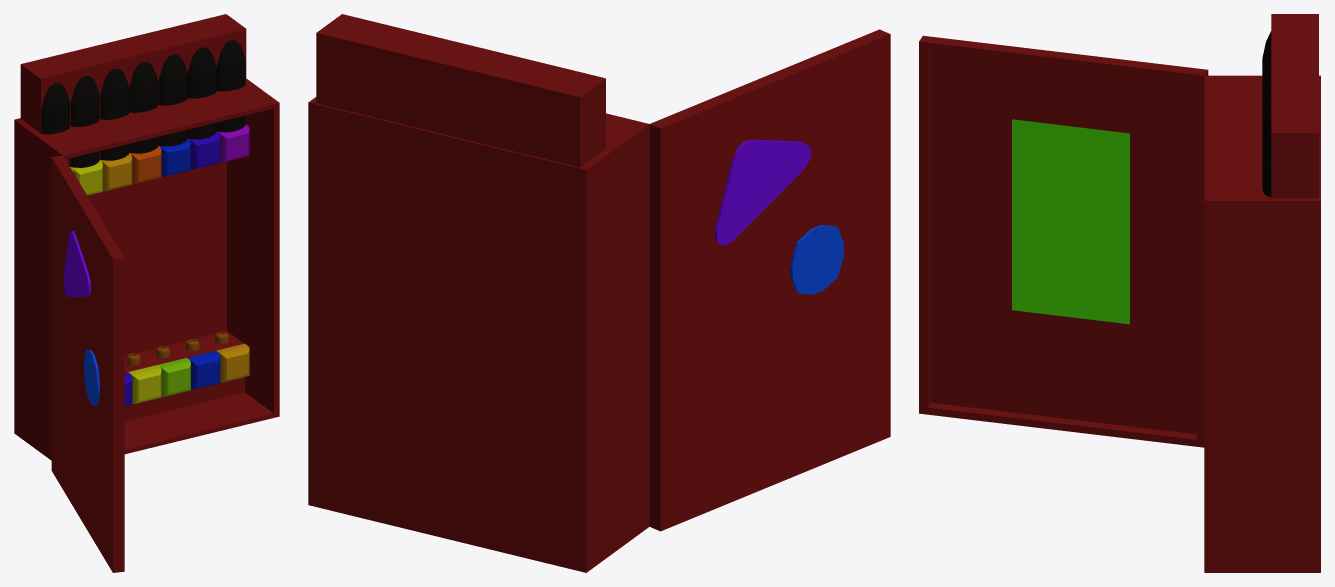
File: SM_ELectrical_Panel 1.fbx
3 views of the same model, side by side, from view 1: azimuth 30°, elevation 25°; view 2: azimuth 150°, elevation 25°; view 3: azimuth 270°, elevation 25° (orthographic). The views are drawn at different scales.
Parts seen in each view (by area): view 1: polySurface90, polySurface81; view 2: polySurface90, polySurface81; view 3: polySurface81, polySurface90.
Boxes of the visible parts, x1,y1,x2,y2 form: polySurface90: [14, 14, 279, 460]; polySurface81: [51, 155, 124, 572]; polySurface90: [308, 14, 649, 572]; polySurface81: [649, 29, 890, 531]; polySurface81: [919, 35, 1208, 447]; polySurface90: [1204, 14, 1320, 572].
Bounding box in the file's own units: 71.86 × 88.62 × 73.88.
